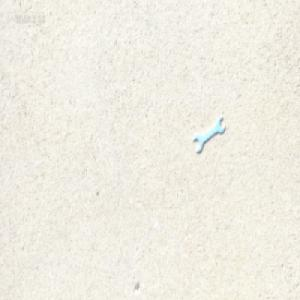Wrench: (193, 116, 224, 152)
